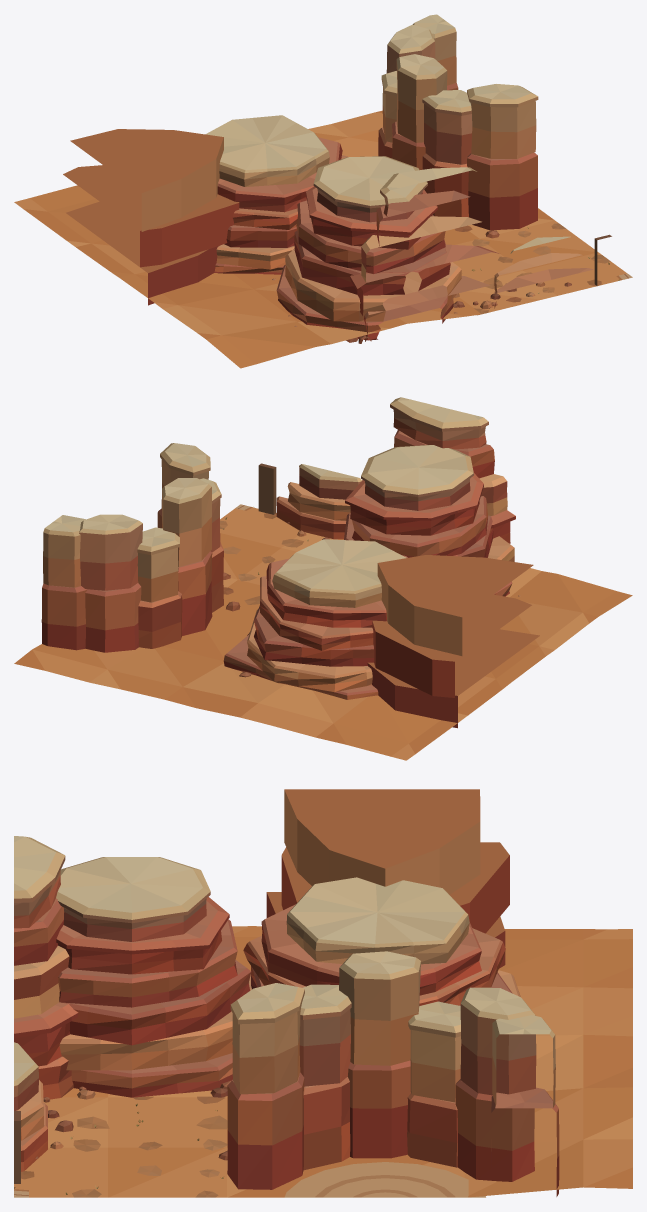
The picture shows the model from 3 angles, top to bottom: view 1: azimuth 30°, elevation 25°; view 2: azimuth 150°, elevation 25°; view 3: azimuth 270°, elevation 25°; orthographic projection. The views are drawn at different scales.
Visible parts, largest first — view 1: baked; view 2: baked; view 3: baked.
Part boxes in pixels (box(x1,y1,x2,y2)): baked: box(14, 14, 632, 368); baked: box(14, 397, 632, 760); baked: box(14, 789, 632, 1197).
Bounding box in the file's own units: 62.5 × 22.32 × 62.5.
